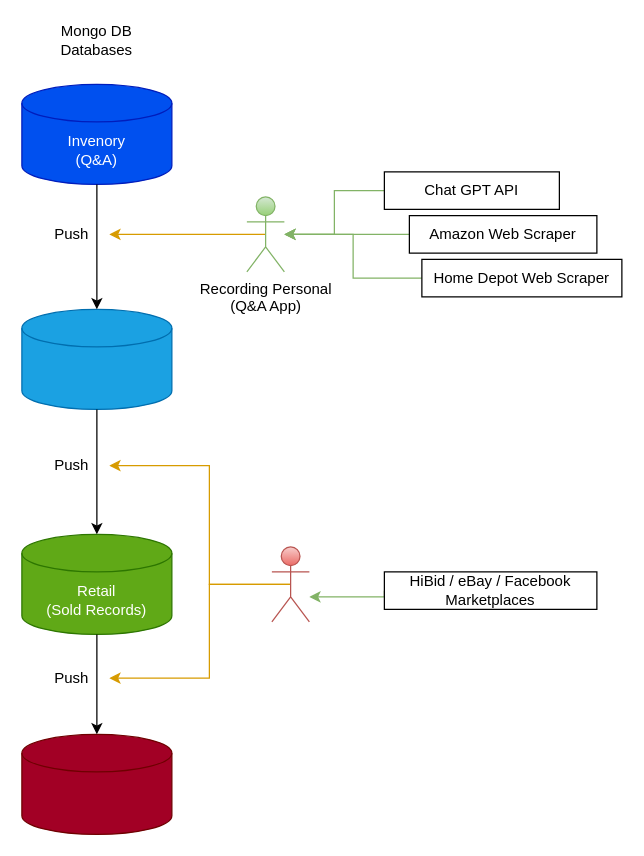
Some shapes in this 644 by 856 pixel diagram are drawn without their labels. The shapes that lost their labels are listed below. From the top down, each one's centre as x and y in pixels, then its label:
At [96,358]: "Invenory (Instock)".
At [290,584]: "Sales Admin (Admin App)".
At [96,783]: "Return (Refund Records)".
